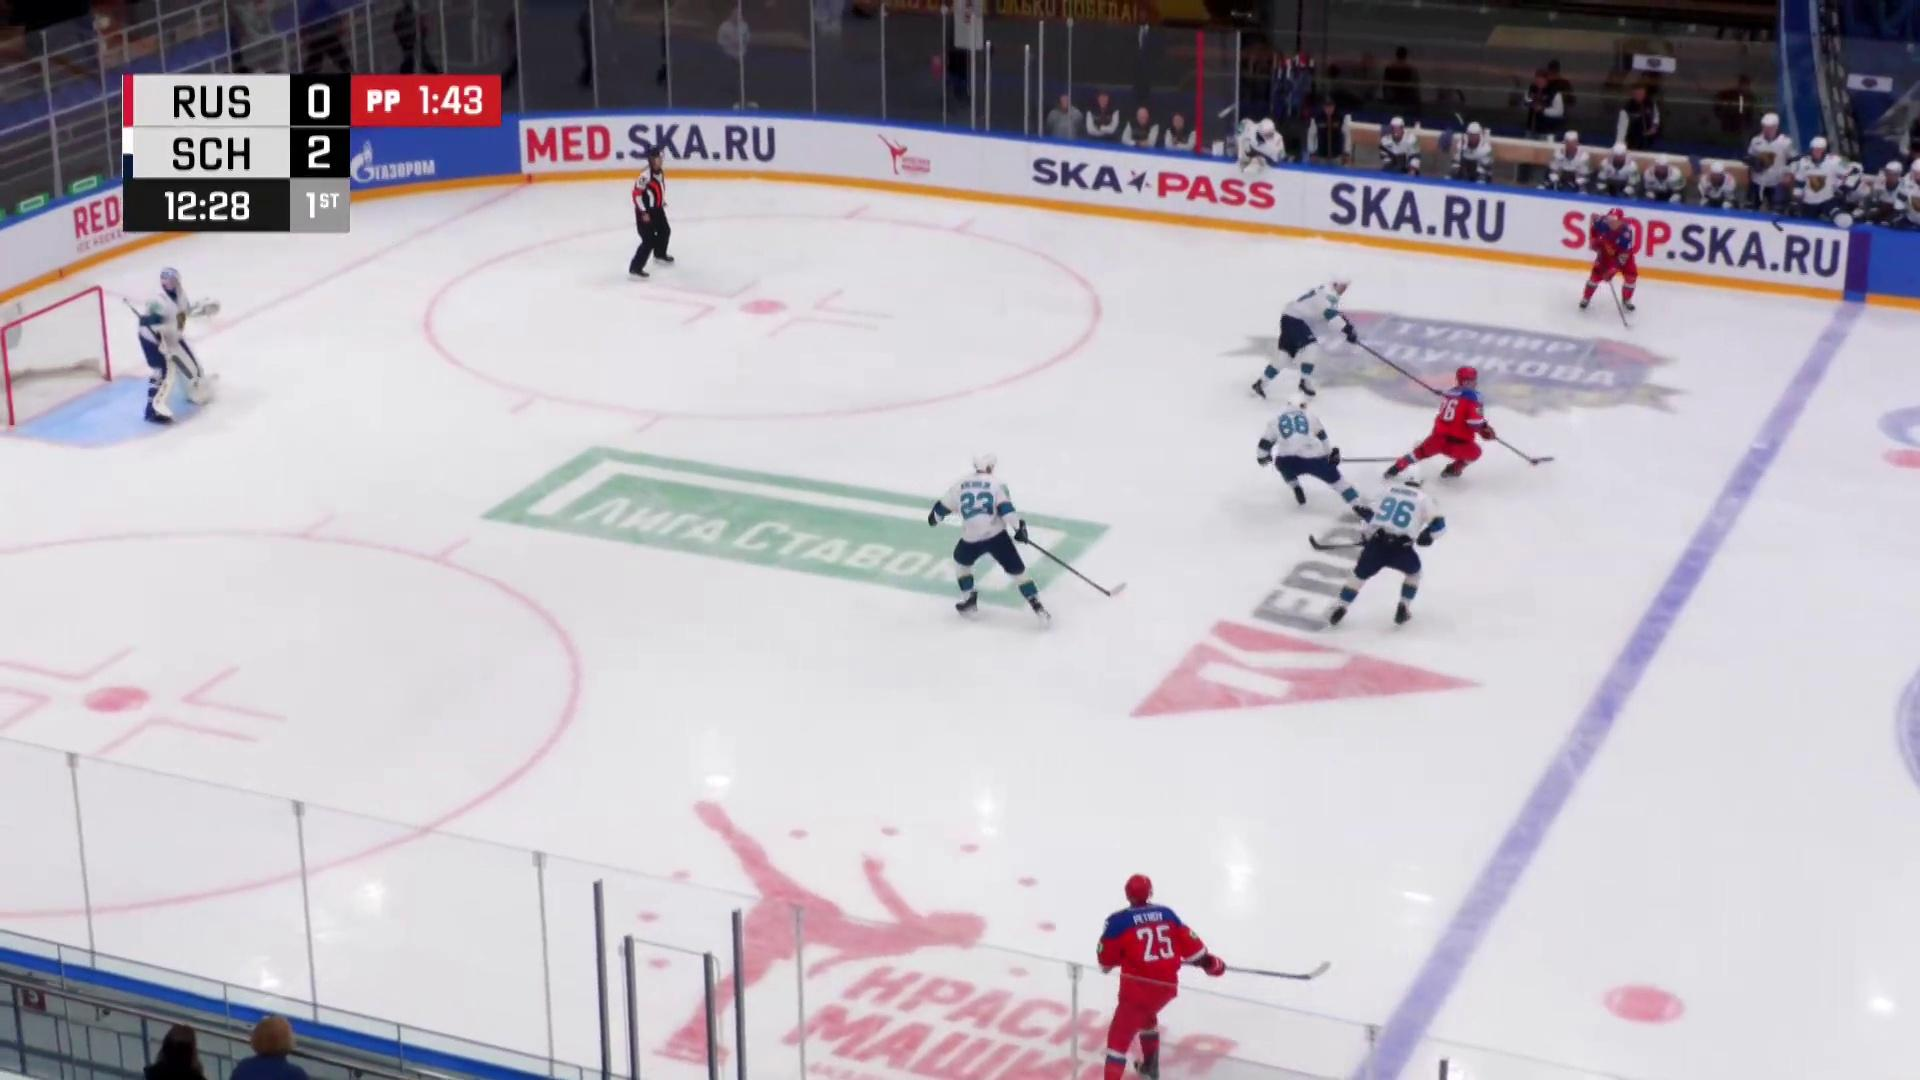ball: (1530, 460, 1538, 465)
